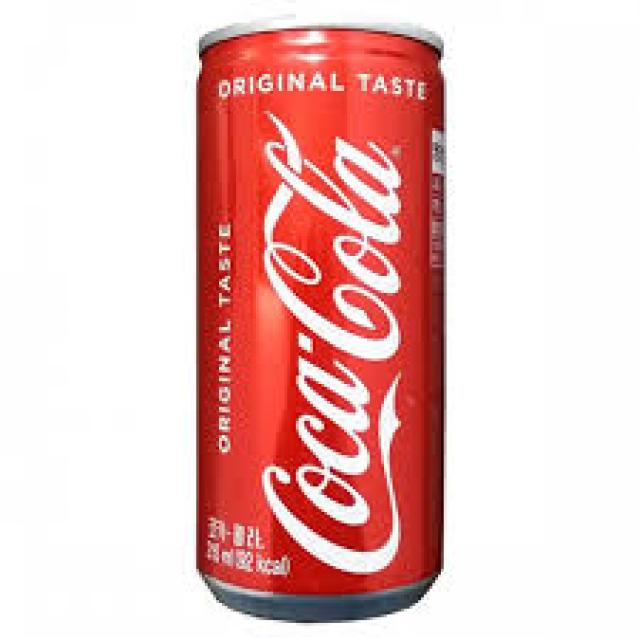Coca-Cola: (175, 13, 462, 628)
